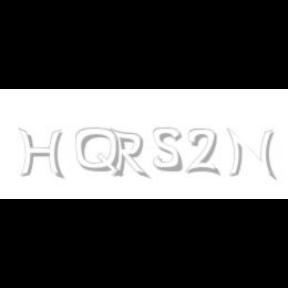2: (185, 128, 219, 176)
H: (18, 128, 64, 180)
N: (226, 128, 274, 180)
Q: (76, 128, 122, 178)
R: (109, 128, 147, 180)
S: (153, 128, 184, 172)
